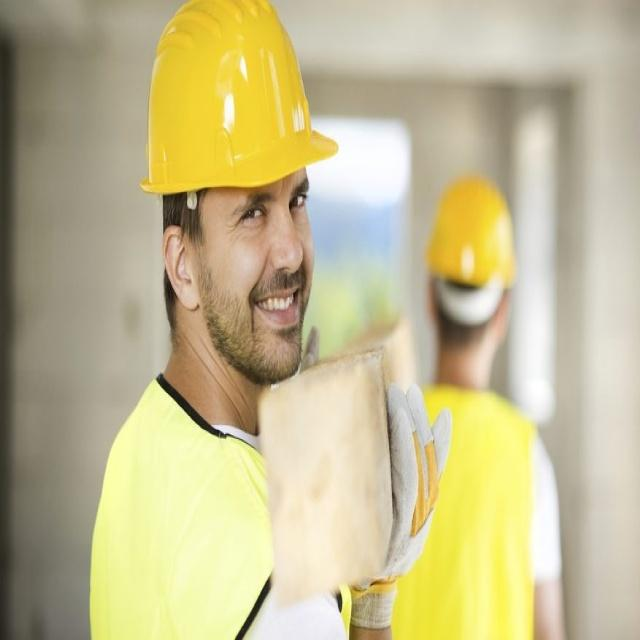helmet: (148, 4, 314, 520), (423, 232, 515, 489)
